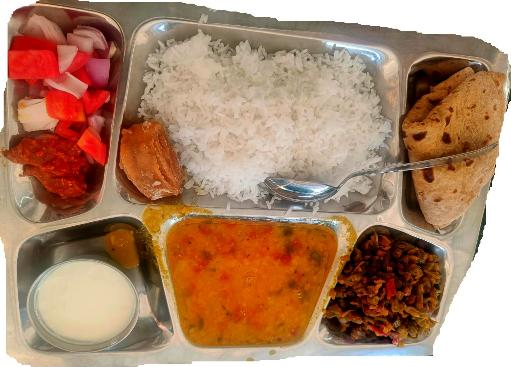Curd: (16, 253, 154, 356)
Dal: (162, 214, 332, 365)
Pickle: (7, 133, 84, 204)
Rice: (123, 16, 392, 213)
Roti: (398, 51, 511, 230)
Salad: (5, 1, 119, 132)
Sweet: (118, 122, 185, 206)
Vegetable: (335, 234, 462, 355)
